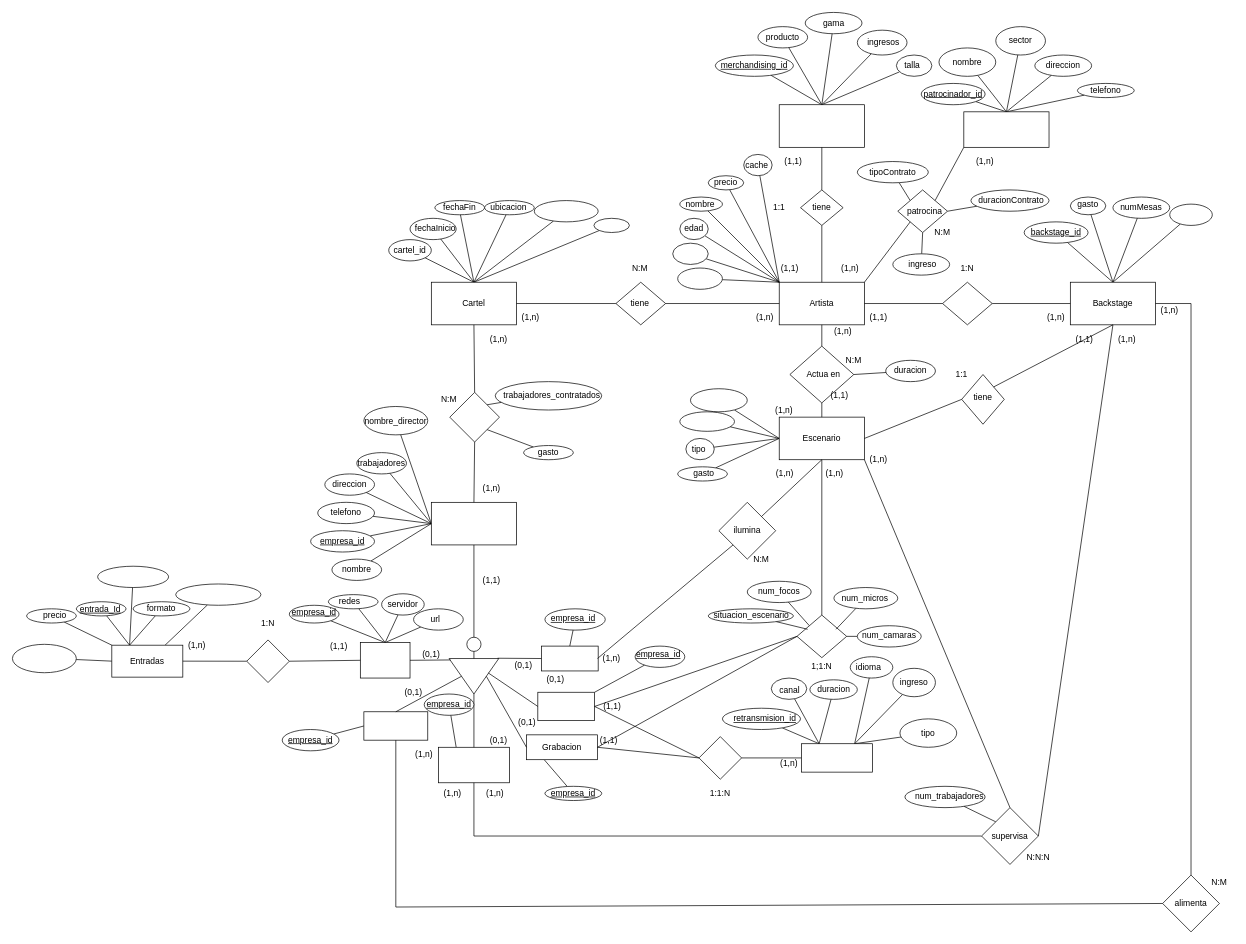
Image size: 1246x944. Some labels were removed from this diagram. Here are the shapes that lost their labels. From the top down, the centre of each, then its label:
At (821,125): "Merchandising".
At (1006,129): "Patrocinador".
At (566,211): "presupuesto".
At (611,225): "titulo".
At (1190,214): "tamaño".
At (690,253): "genero".
At (699,278): "artista_id".
At (967,303): "aloja".
At (474,417): "participa".
At (718,400): "escenario_id".
At (706,421): "extension".
At (474,523): "Empresa".
At (133,577): "categoria".
At (218,594): "plazo_devolucion".
At (821,636): "graba".
At (44,658): "fecha_compra".
At (267,661): "vende".
At (385,660): "Web".
At (569,658): "Iluminacion".
At (395,725): "Catering".
At (566,706): "Sonido".
At (473,765): "Seguridad".
At (720,757): "produce".
At (836,757): "Retransmision".
